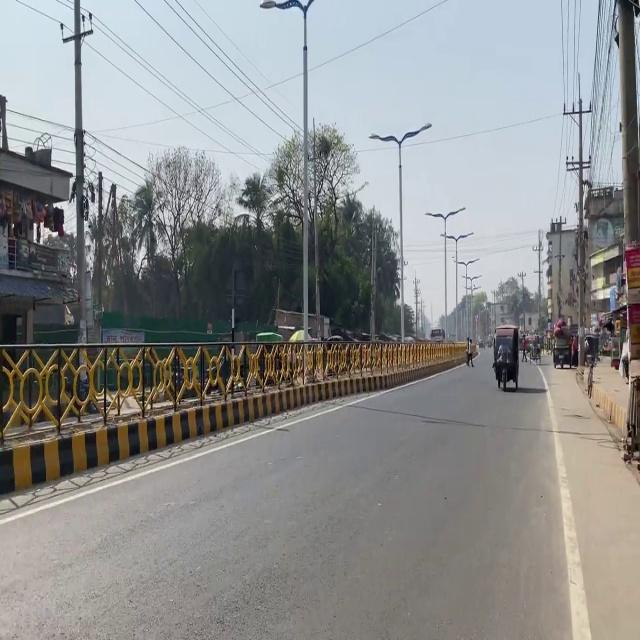Garbage: (491, 323, 520, 391)
Garbage-bin: (465, 337, 476, 367)
Light-pole: (614, 1, 639, 453)
Pole: (0, 320, 290, 488)
Pothole: (535, 348, 639, 638)
Traffic-cone: (429, 328, 444, 342)
